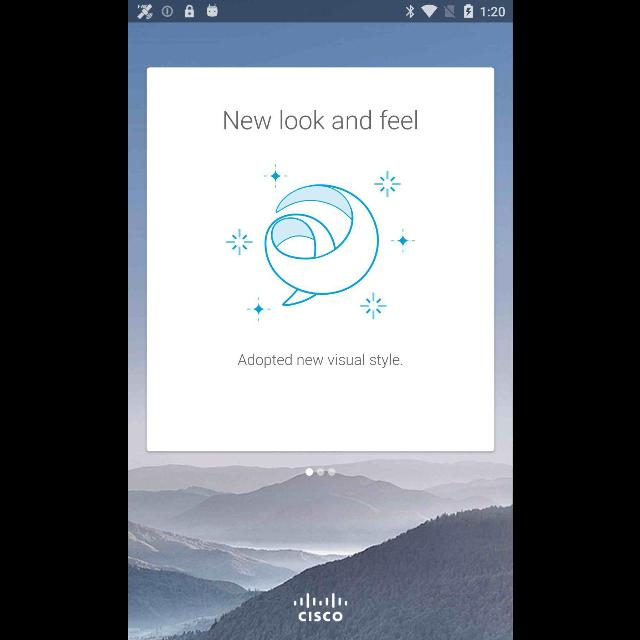backgroundimage: (128, 22, 512, 640)
image: (226, 164, 414, 322), (292, 592, 346, 622)
pageindicator: (304, 468, 336, 477)
panel: (146, 68, 494, 452)
text: (223, 110, 417, 130), (236, 354, 402, 368)
uppertaskbar: (128, 1, 512, 23)
